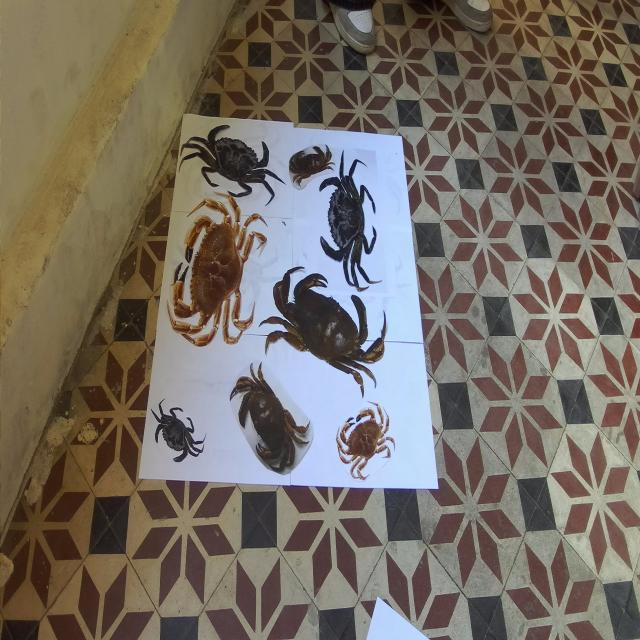European_Green_Crab: (178, 106, 291, 219), (312, 142, 383, 303), (144, 386, 208, 481)
